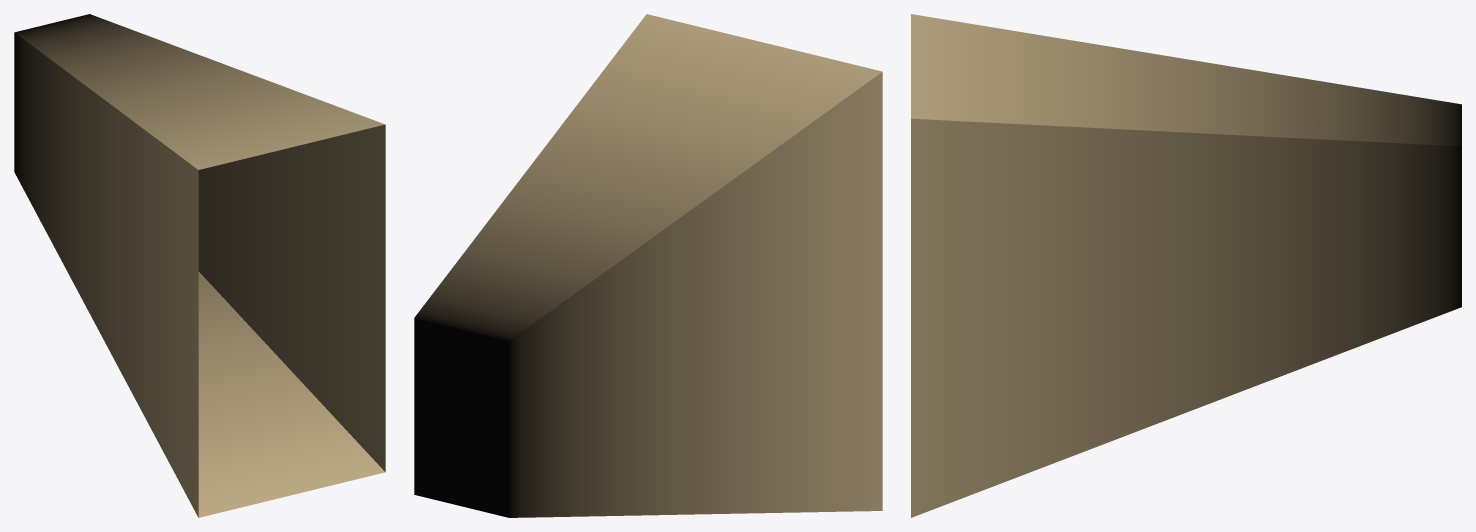
Rendered from environment.fbx.
3 renders of one model, left to right at view 1: azimuth 30°, elevation 25°; view 2: azimuth 150°, elevation 25°; view 3: azimuth 270°, elevation 25°, orthographic. The views are drawn at different scales.
Parts seen in each view (by area): view 1: Environment; view 2: Environment; view 3: Environment.
Part boxes in pixels (x1,y1,x2,y2): Environment: (14, 14, 385, 517); Environment: (414, 14, 882, 517); Environment: (911, 14, 1461, 517).
Bounding box in the file's own units: 0.9 × 1.6 × 2.
